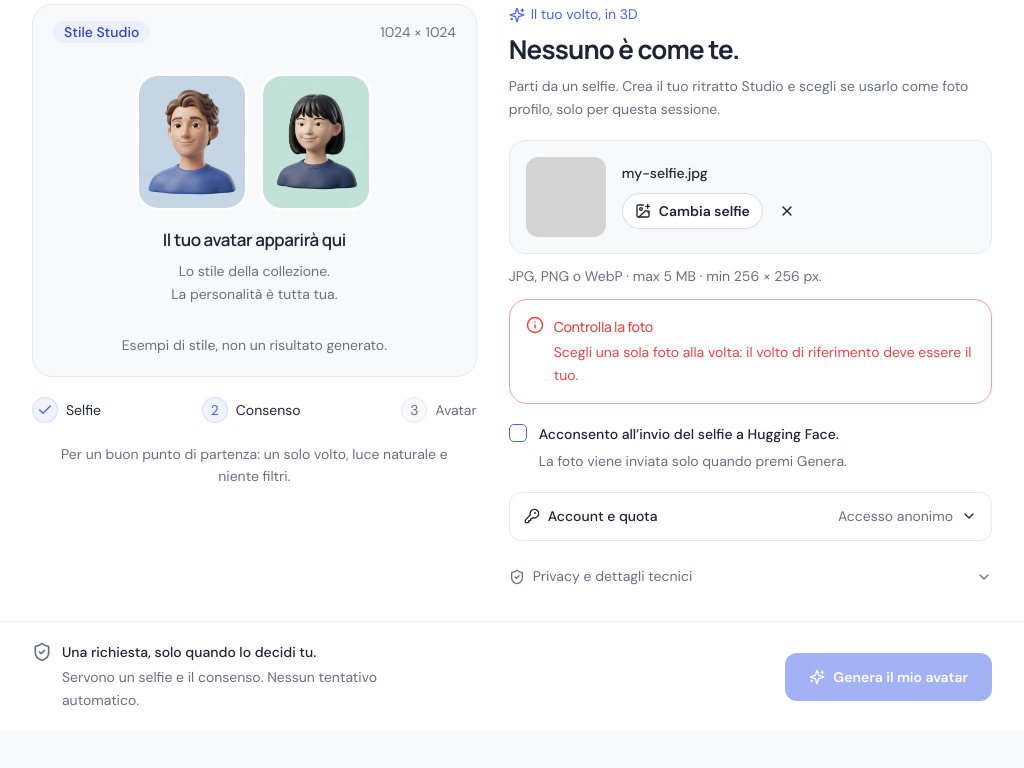
ZeroGPU selfie-to-avatar flow › removes the photo, validation errors and its object URL from the panel
Earlier steps of the test are not shown.
Expected: the button "Cambia selfie" is enabled, x1=622 y1=193 x2=763 y2=229
Click the button named "Rimuovi": (787,211) x1=767 y1=191 x2=807 y2=231
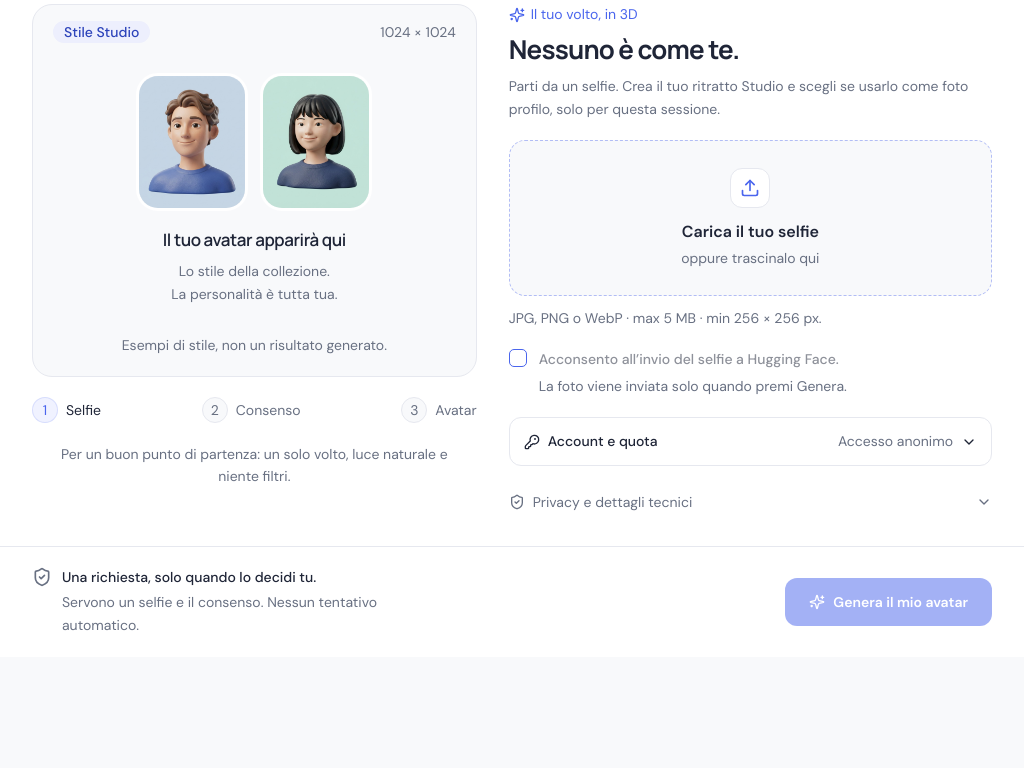
Expected: the button "Genera il mio avatar" is disabled, x1=785 y1=578 x2=992 y2=626
Expected: the button "Carica il tuo selfie oppure trascinalo qui" is enabled, x1=509 y1=140 x2=992 y2=296
